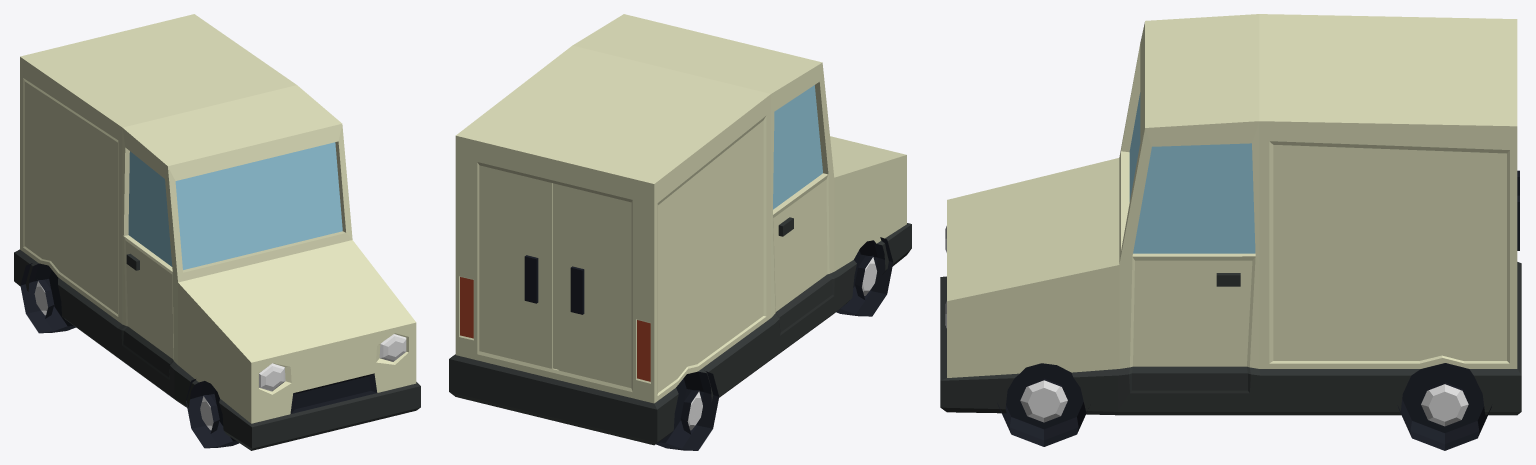
File: SSJ_vanLowPoly.fbx
3 renders of one model, left to right at view 1: azimuth 30°, elevation 25°; view 2: azimuth 150°, elevation 25°; view 3: azimuth 270°, elevation 25°, orthographic. The views are drawn at different scales.
Parts seen in each view (by area): view 1: Cube; view 2: Cube; view 3: Cube.
Part boxes in pixels (left/top/right/bottom): Cube: left=14, top=14, right=420, bottom=450; Cube: left=449, top=14, right=911, bottom=450; Cube: left=940, top=14, right=1521, bottom=450.
Size of the model in its own units: 569 by 714 by 1154.
